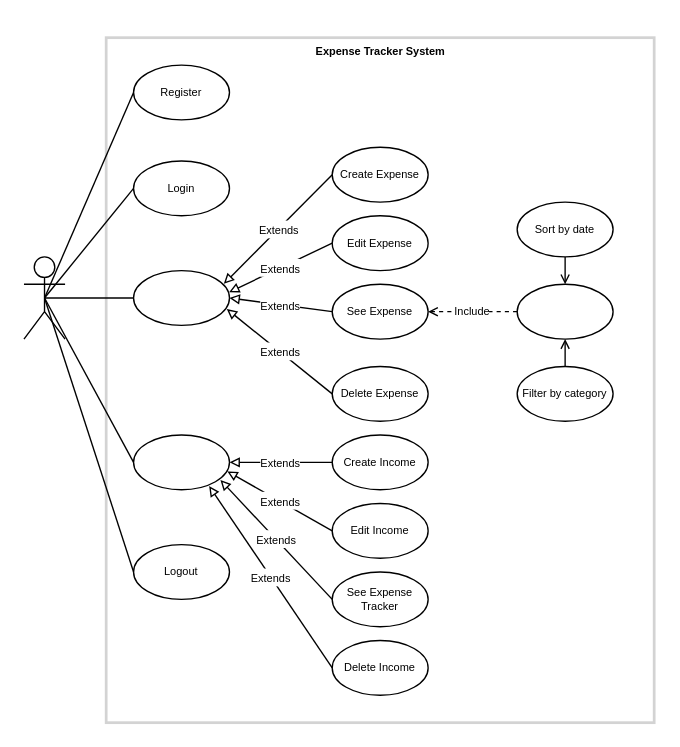
Image size: 680x747. Some labels were removed from this diagram. The centre of each missing label's shape, as x and y in pixels:
"Expense Menu" belongs at pixel 180 297.
"Income Menu" belongs at pixel 180 462.
"Search Expense" belongs at pixel 564 311.
"User" belongs at pixel 44 297.
